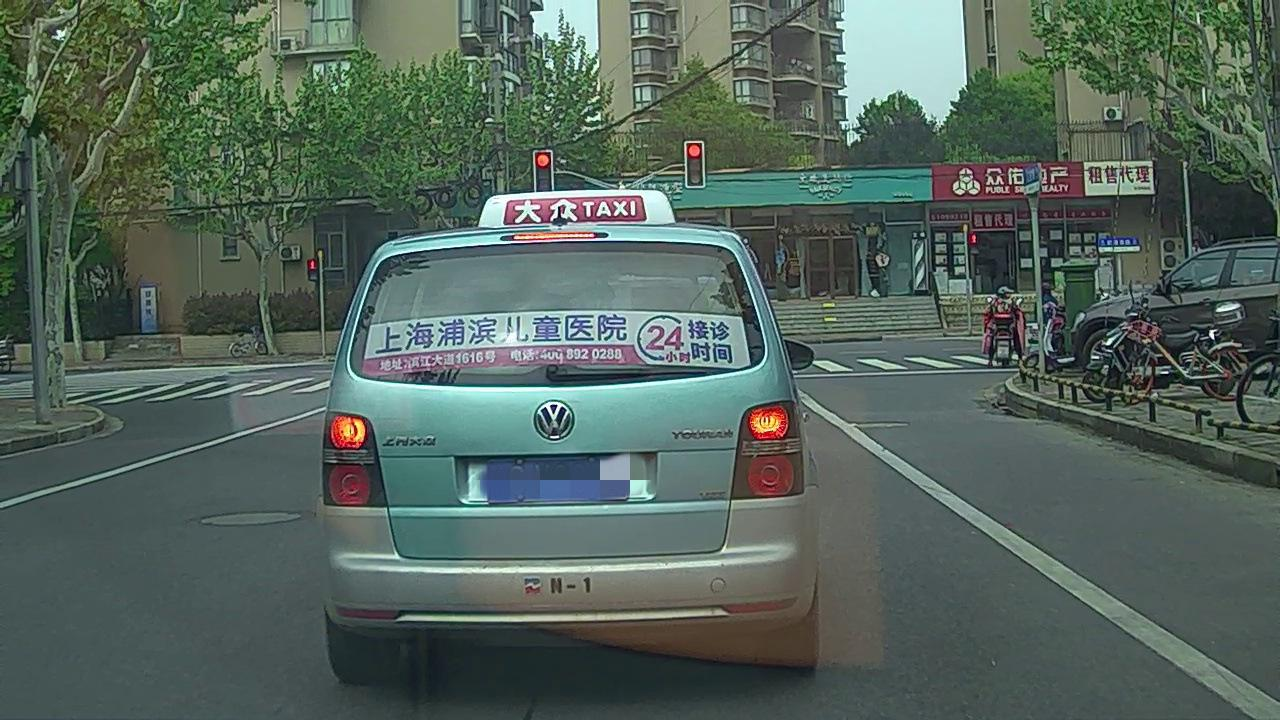traffic_light: (686, 143, 703, 186), (535, 151, 552, 191)
